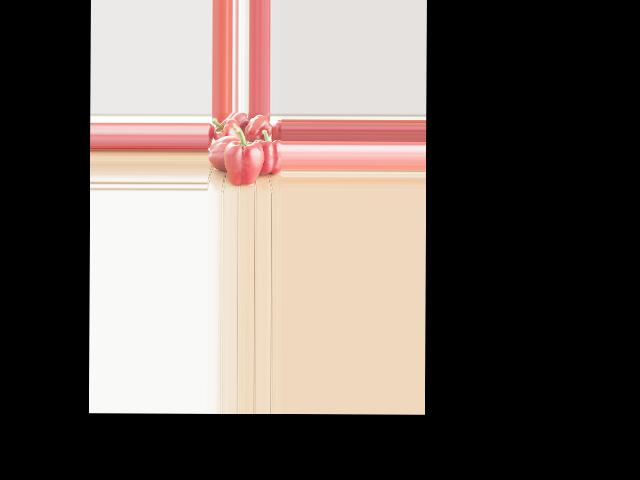bell_pepper: (210, 117, 239, 141)
